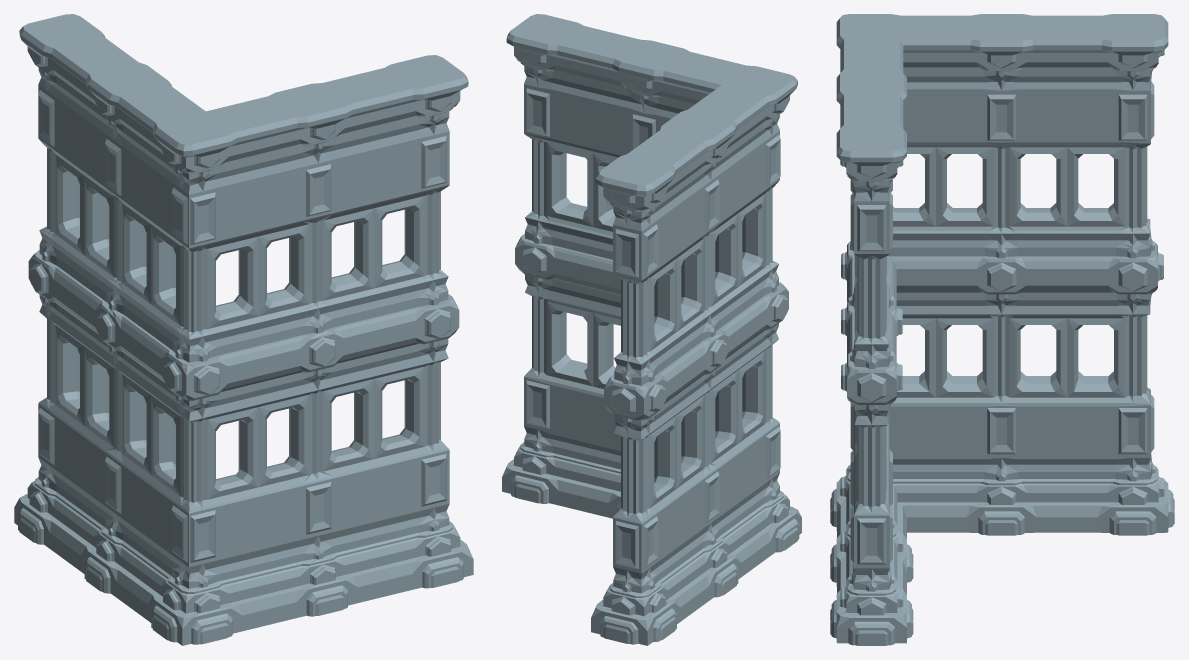
Rendered from column_corner.FBX.
3 views of the same model, side by side, from view 1: azimuth 30°, elevation 25°; view 2: azimuth 150°, elevation 25°; view 3: azimuth 270°, elevation 25° (orthographic). The views are drawn at different scales.
Parts seen in each view (by area): view 1: column_wall; view 2: column_wall; view 3: column_wall.
Boxes of the visible parts, x1,y1,x2,y2 form: column_wall: (14, 14, 473, 645); column_wall: (502, 14, 801, 645); column_wall: (830, 14, 1174, 645).
Size of the model in its own units: 821 by 1290 by 821.
